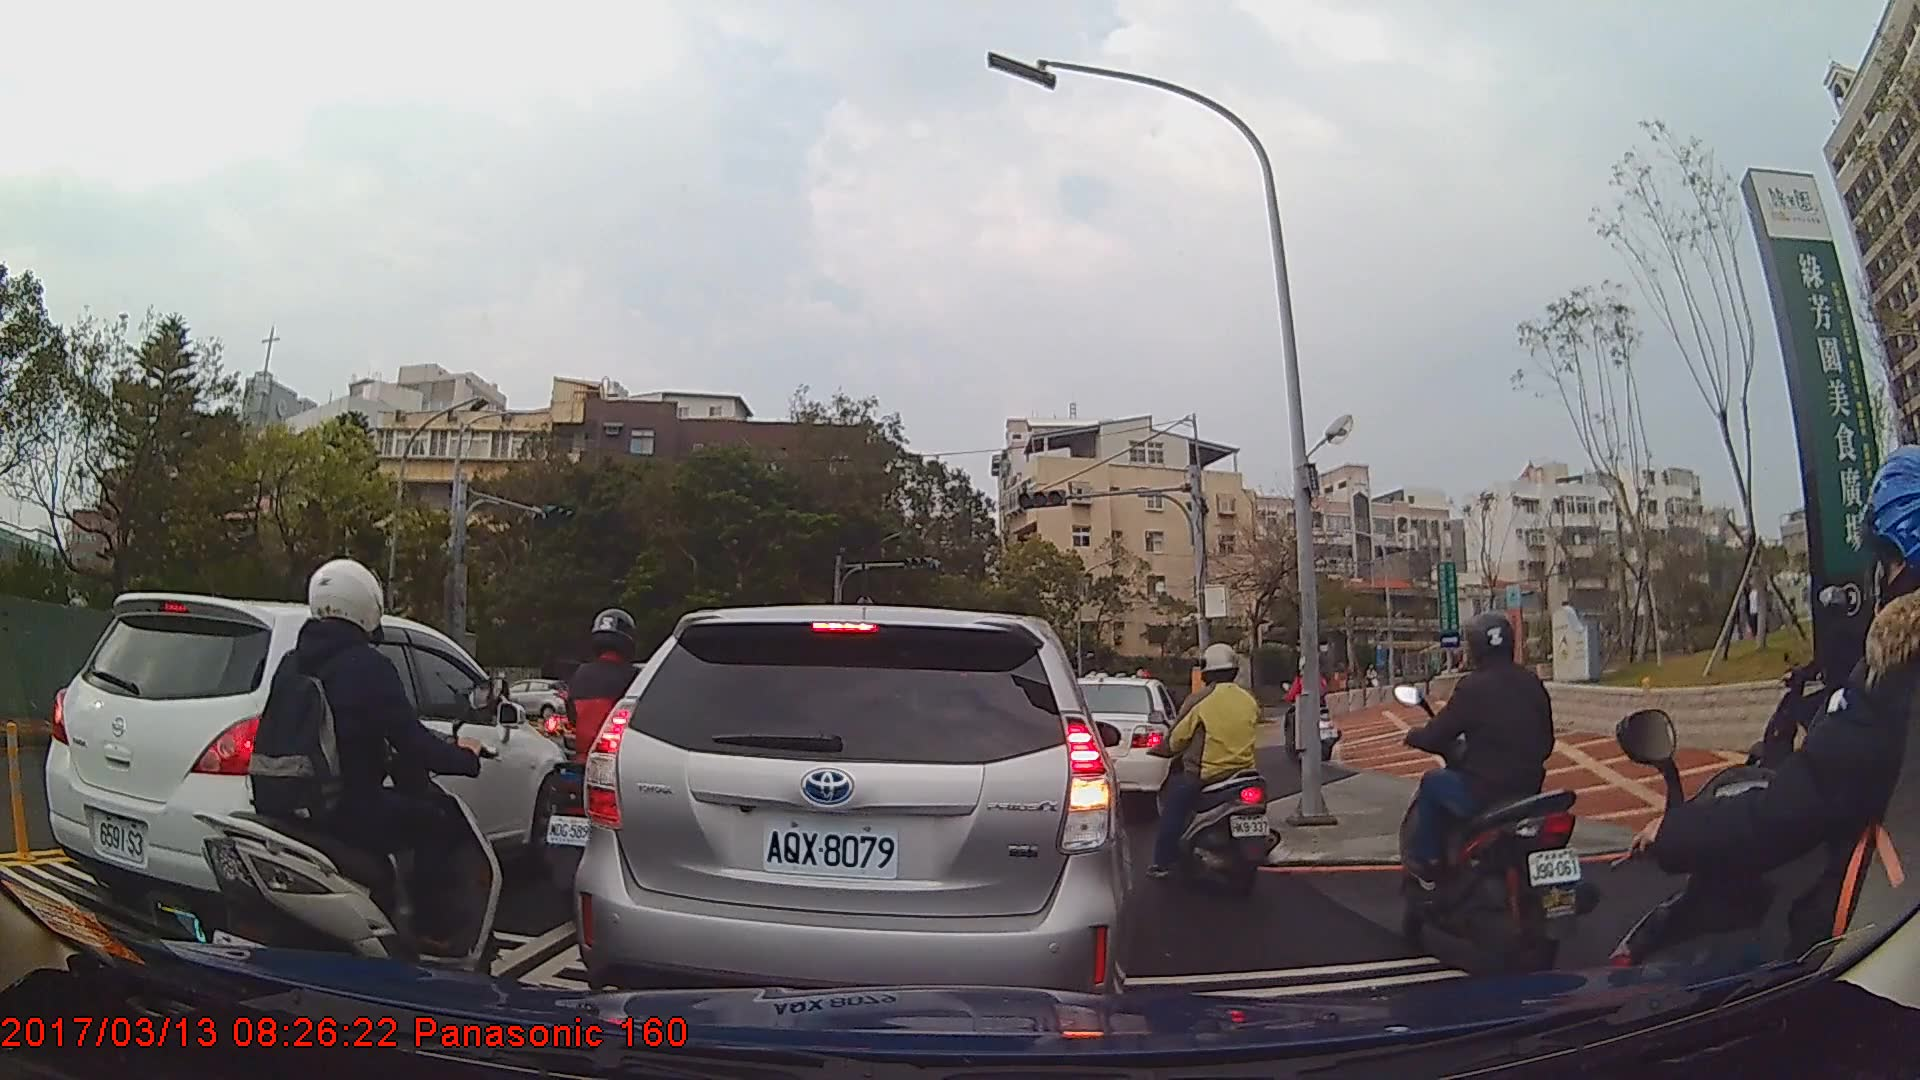pedestrian: (1735, 566, 1776, 644), (1726, 580, 1762, 646)
rider: (1591, 447, 1920, 1079), (196, 553, 507, 1016), (1386, 609, 1596, 970), (539, 607, 675, 917), (1148, 640, 1277, 892), (1749, 581, 1905, 780), (1281, 653, 1344, 766)
vehicle: (569, 602, 1132, 1034), (41, 591, 572, 928), (1065, 673, 1187, 809), (496, 677, 572, 722)
